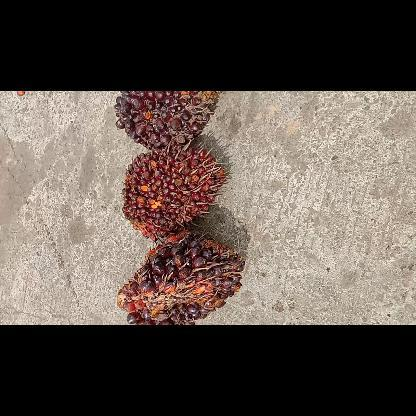Kurang masak: (120, 150, 226, 238), (115, 92, 220, 150)
TBS masak: (116, 236, 244, 324)
